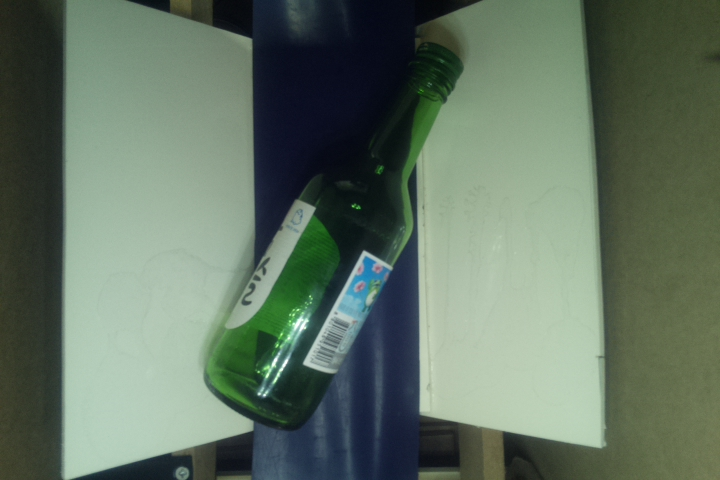soju: (206, 40, 464, 433)
